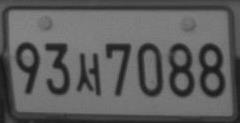0: (137, 41, 163, 97)
3: (44, 42, 71, 96)
7: (104, 42, 132, 96)
8: (198, 41, 226, 98), (167, 42, 195, 97)
9: (14, 40, 40, 95)
서: (76, 52, 102, 96)
